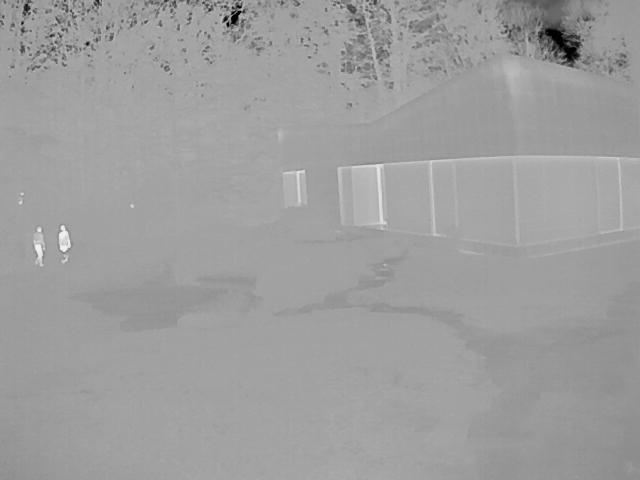person: (59, 222, 73, 267), (32, 226, 46, 265)
